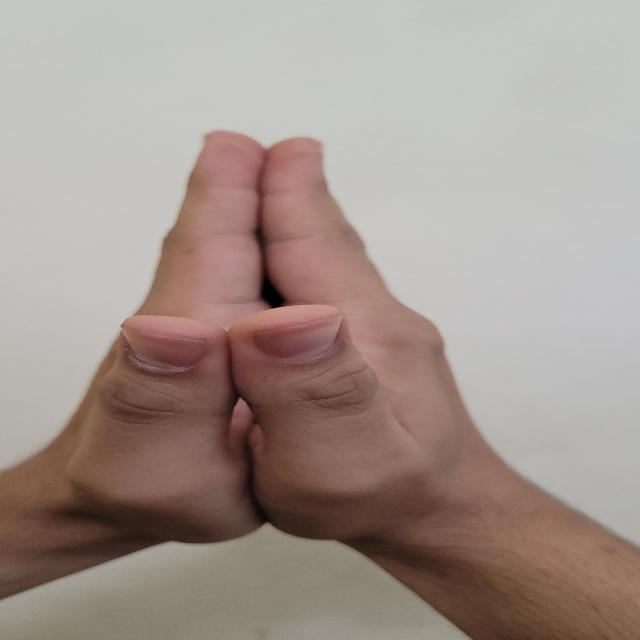Thank You: (22, 114, 640, 593)
